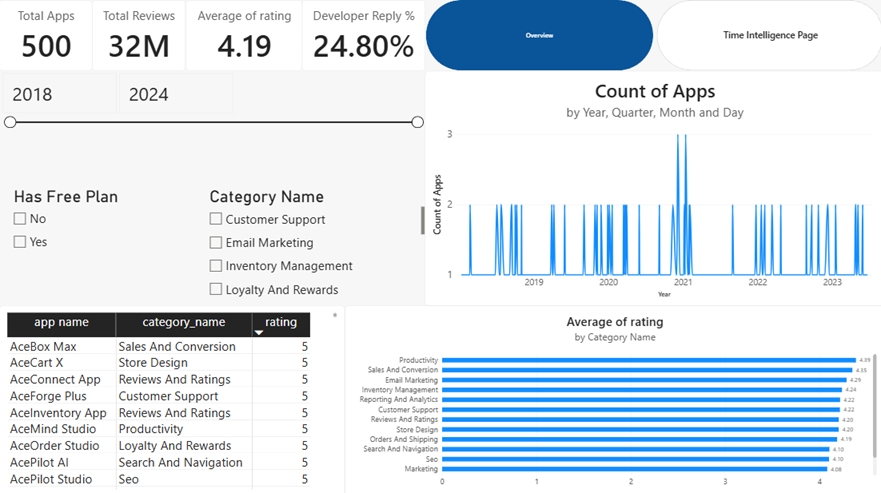

This screenshot's page, from the dashboard's own definition file:
{"tool":"powerbi","page":{"name":"Overview","canvas":[1920,1080],"ordinal":0},"visuals":[{"type":"cardVisual","fields":{"Data":["Count(apps.app_id)"]},"box":[0,0,202.5,154.5],"z":0},{"type":"cardVisual","fields":{"Data":["Sum(reviews.review_id)"]},"box":[202.5,0,202.5,154.5],"z":1000},{"type":"cardVisual","fields":{"Data":["Avg(reviews.rating)"]},"box":[405,0,252.6,154.5],"z":2000},{"type":"cardVisual","fields":{"Data":["reviews.Developer Reply %"]},"box":[657.5,0,267.2,154.5],"z":3000},{"type":"slicer","fields":{"Values":["apps.category_name"]},"box":[448.7,405.3,474.7,251.4],"z":4000},{"type":"slicer","fields":{"Values":["dim_date.Year"]},"box":[0,153.9,923.4,251.4],"z":5000},{"type":"slicer","fields":{"Values":["apps.has_free_plan"]},"box":[23.8,405.3,424.8,251.4],"z":6000},{"type":"lineChart","fields":{"Y":["Count(apps.app_id)"],"Category":["apps.launch_date.Variation.Date Hierarchy.Year","apps.launch_date.Variation.Date Hierarchy.Quarter","apps.launch_date.Variation.Date Hierarchy.Month","apps.launch_date.Variation.Date Hierarchy.Day"]},"box":[923.4,153.9,997.1,509.4],"z":7000},{"type":"barChart","fields":{"Category":["apps.category_name"],"Y":["Avg(reviews.rating)"]},"box":[750,663.3,1170.5,416.2],"z":8000},{"type":"tableEx","fields":{"Values":["apps.app name","apps.category_name","reviews.rating"]},"box":[0,663.3,750,416.2],"z":9000},{"type":"pageNavigator","box":[925.5,0,994.9,153.9],"z":10000}]}

Visuals, with their boxes in screenshot pixels (x1, y1, x2, y2), scaled from the page's 1920x1080 canvas onto the 881x493 screenshot:
cardVisual - Count(apps.app_id): (left=0, top=0, right=93, bottom=71)
cardVisual - Sum(reviews.review_id): (left=93, top=0, right=186, bottom=71)
cardVisual - Avg(reviews.rating): (left=186, top=0, right=302, bottom=71)
cardVisual - reviews.Developer Reply %: (left=302, top=0, right=424, bottom=71)
slicer - apps.category_name: (left=206, top=185, right=424, bottom=300)
slicer - dim_date.Year: (left=0, top=70, right=424, bottom=185)
slicer - apps.has_free_plan: (left=11, top=185, right=206, bottom=300)
lineChart - Count(apps.app_id) x apps.launch_date.Variation.Date Hierarchy.Year: (left=424, top=70, right=880, bottom=303)
barChart - apps.category_name x Avg(reviews.rating): (left=344, top=303, right=880, bottom=492)
tableEx - apps.app name x apps.category_name: (left=0, top=303, right=344, bottom=492)
pageNavigator: (left=425, top=0, right=880, bottom=70)
